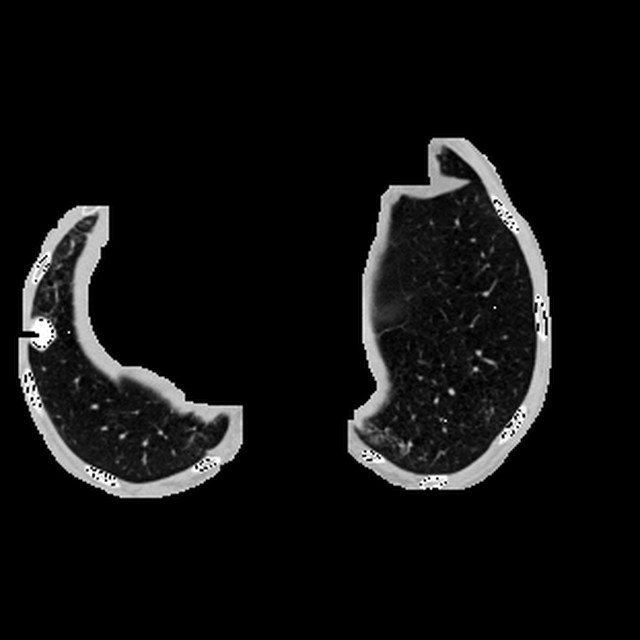PN: (23, 317, 56, 350)
